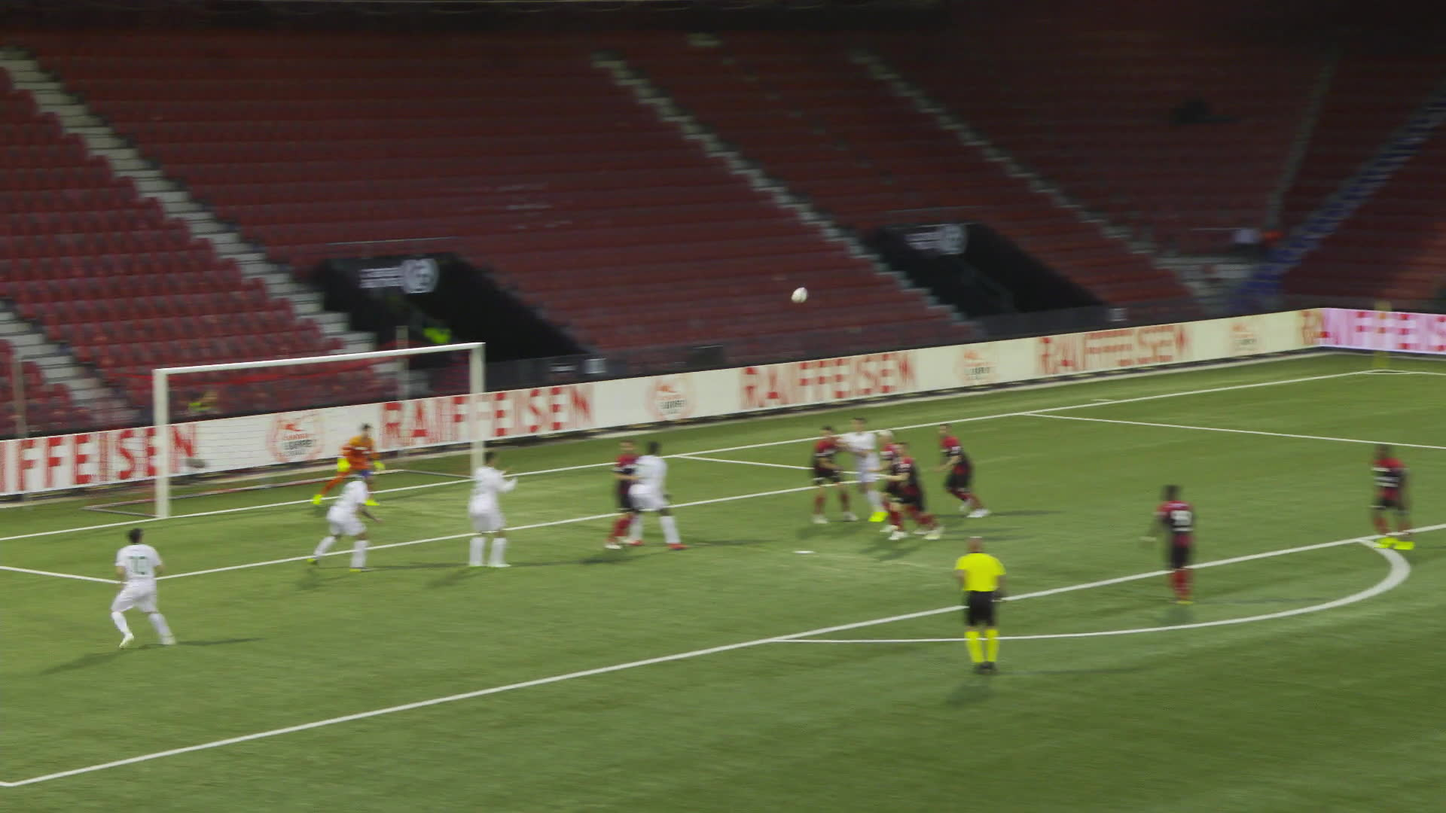ball: (791, 286, 808, 302)
player: (87, 523, 174, 646), (301, 468, 375, 572), (606, 440, 672, 548), (1121, 482, 1180, 602), (849, 428, 914, 535), (913, 421, 985, 516), (785, 426, 850, 522), (819, 419, 879, 522), (445, 448, 497, 565), (867, 441, 924, 541), (1368, 443, 1415, 549), (307, 422, 374, 495), (585, 439, 627, 548), (1433, 401, 1445, 439)
referee: (937, 537, 1000, 671)
